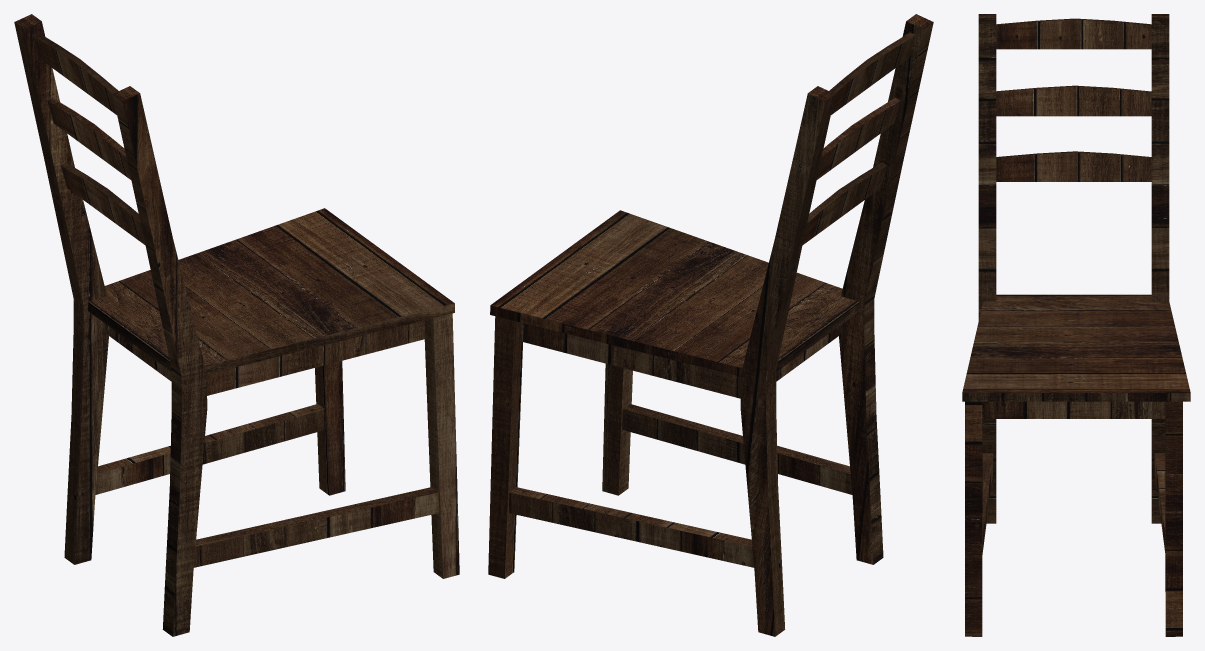
File: Chair.FBX
3 renders of one model, left to right at view 1: azimuth 30°, elevation 25°; view 2: azimuth 150°, elevation 25°; view 3: azimuth 270°, elevation 25°, orthographic. The views are drawn at different scales.
Parts seen in each view (by area): view 1: polySurface105; view 2: polySurface105; view 3: polySurface105.
Part boxes in pixels (box(x1,y1,x2,y2)): polySurface105: box(14, 14, 459, 636); polySurface105: box(488, 14, 933, 636); polySurface105: box(962, 14, 1190, 636).
Size of the model in its own units: 0.2011 by 0.3221 by 0.1375.
Materials: 1 (1 with a texture image).
